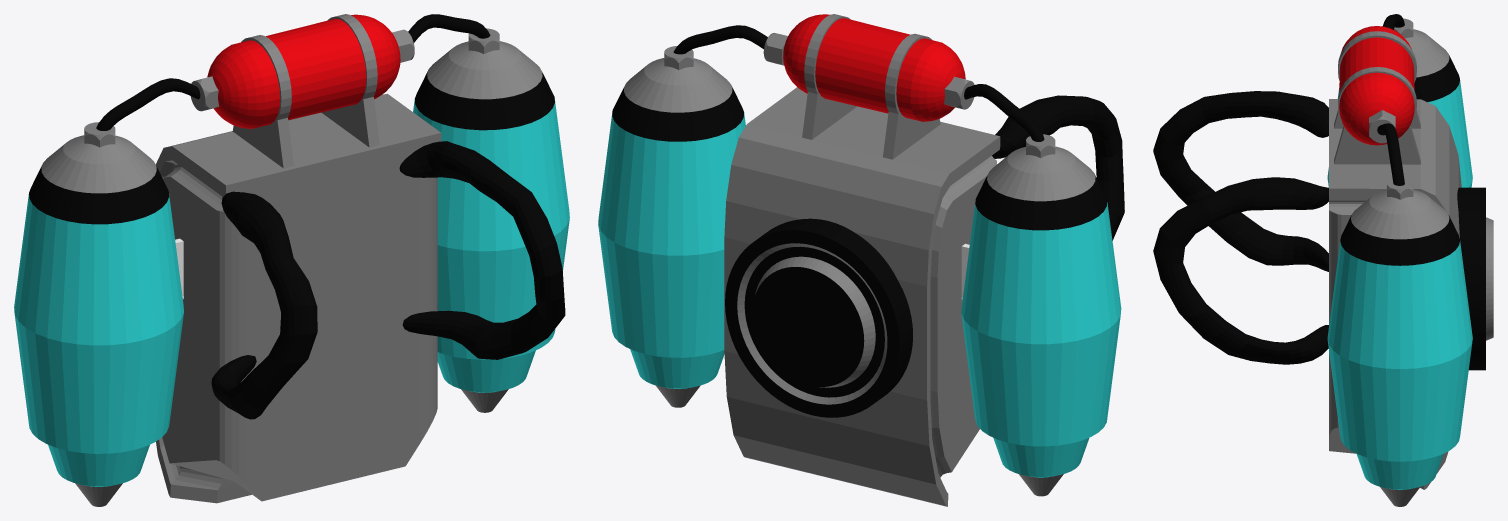
File: ucuz rengli.fbx
The picture shows the model from 3 angles, left to right: view 1: azimuth 30°, elevation 25°; view 2: azimuth 150°, elevation 25°; view 3: azimuth 270°, elevation 25°; orthographic projection. The views are drawn at different scales.
Parts seen in each view (by area): view 1: Cube.004; view 2: Cube.004; view 3: Cube.004.
Boxes of the visible parts, x1,y1,x2,y2 form: Cube.004: (14,14,569,506); Cube.004: (598,14,1124,506); Cube.004: (1153,14,1493,506).
Size of the model in its own units: 695 by 585 by 450.
